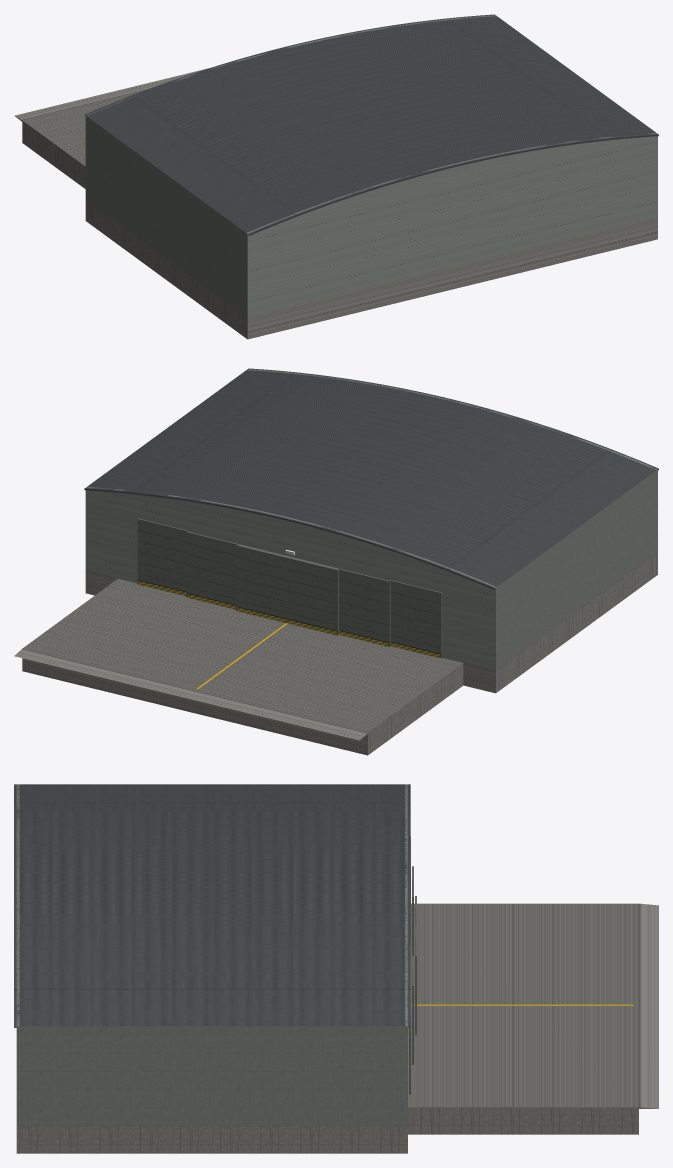
The model's file is HeavyHangar.fbx.
The picture shows the model from 3 angles, top to bottom: view 1: azimuth 30°, elevation 25°; view 2: azimuth 150°, elevation 25°; view 3: azimuth 270°, elevation 25°; orthographic projection. The views are drawn at different scales.
Visible parts, largest first — view 1: hangar_body; view 2: hangar_body, door_L0, door_L2, door_L1, door_R0, door_R2, door_R1; view 3: hangar_body.
Part boxes in pixels (x1=…): hangar_body: x1=14, y1=14, x2=658, y2=339; hangar_body: x1=14, y1=368, x2=658, y2=755; door_L0: x1=286, y1=557, x2=338, y2=635; door_L2: x1=389, y1=580, x2=442, y2=658; door_L1: x1=338, y1=568, x2=390, y2=646; door_R0: x1=236, y1=545, x2=287, y2=622; door_R2: x1=137, y1=518, x2=190, y2=596; door_R1: x1=186, y1=531, x2=239, y2=609; hangar_body: x1=14, y1=784, x2=658, y2=1153.
Bounding box in the file's own units: 114 × 33 × 128.
7 materials, 7 textured.
